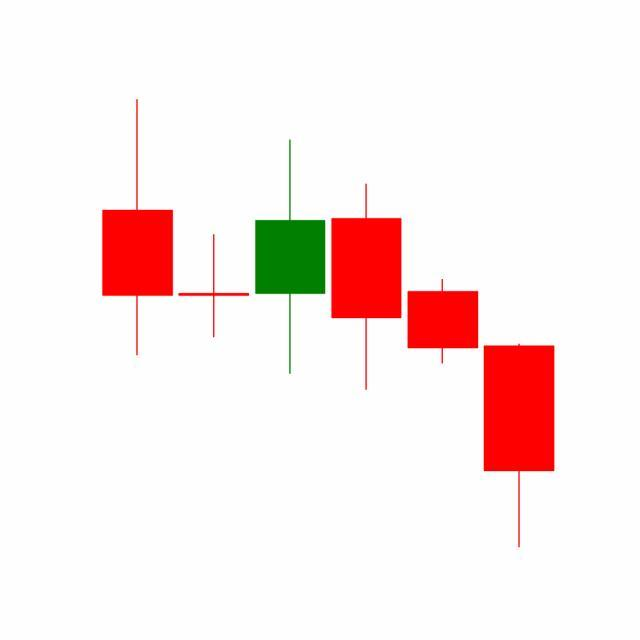Hikkake Pattern: (175, 135, 555, 549)
